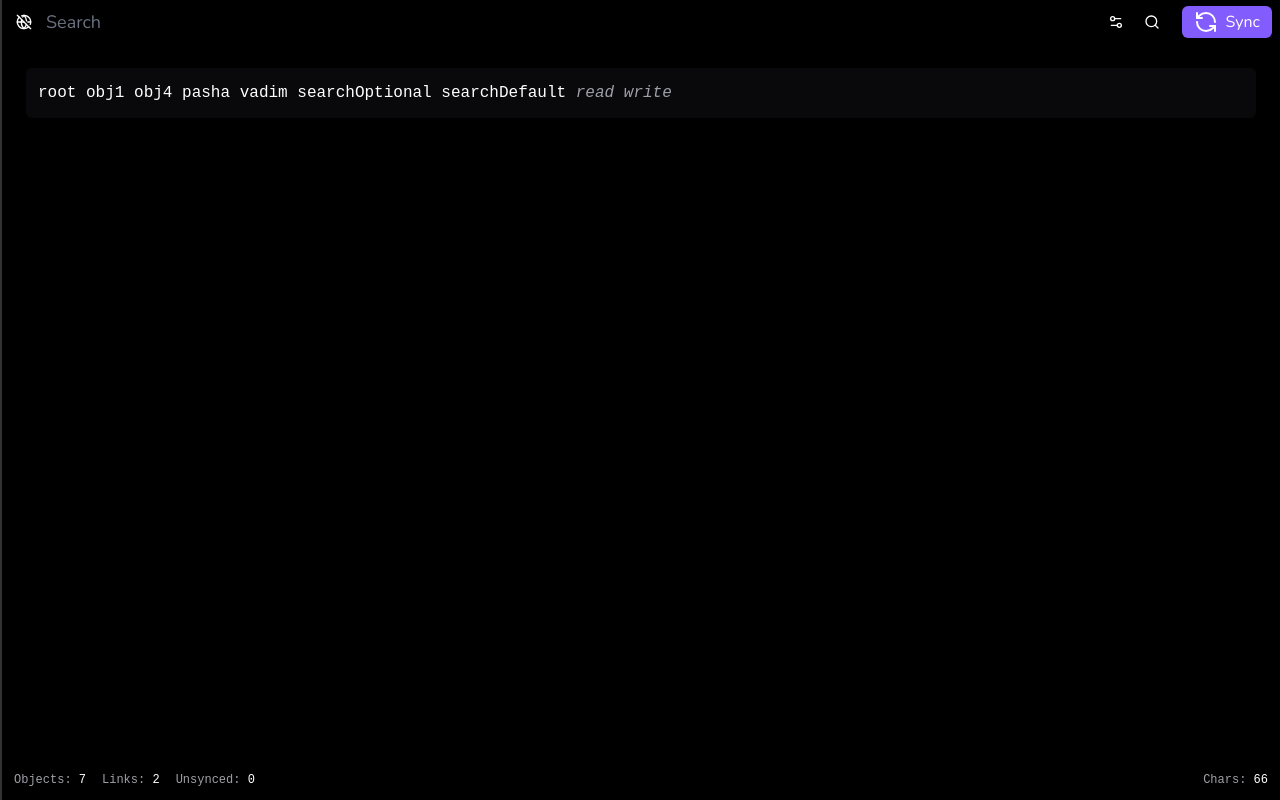
Test: GlobalEditor › очистка запроса выключает filter mode
Type "obj" into the field with placeholder "Search".
click(570, 22); type("obj")  # box x1=46 y1=8 x2=1094 y2=36
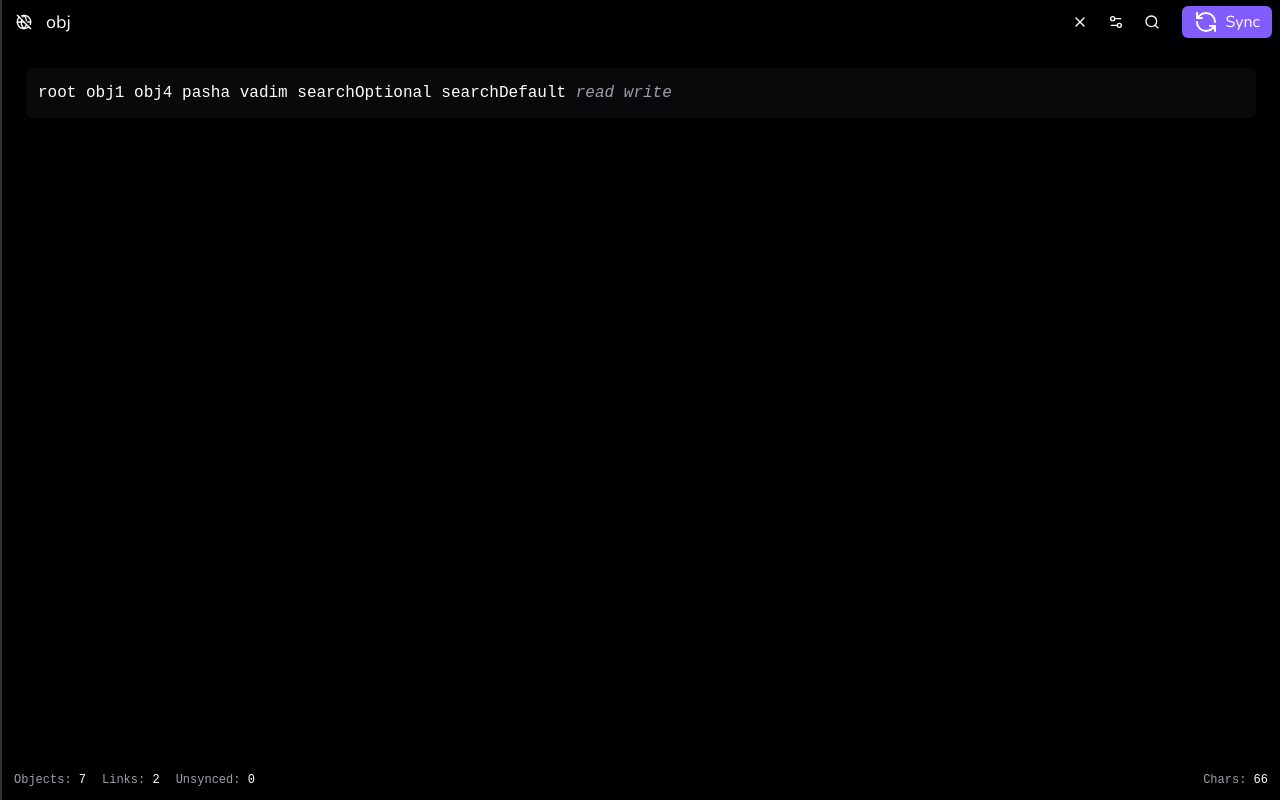
Click the button named "search".
click(1152, 22)  # box x1=1138 y1=8 x2=1166 y2=36
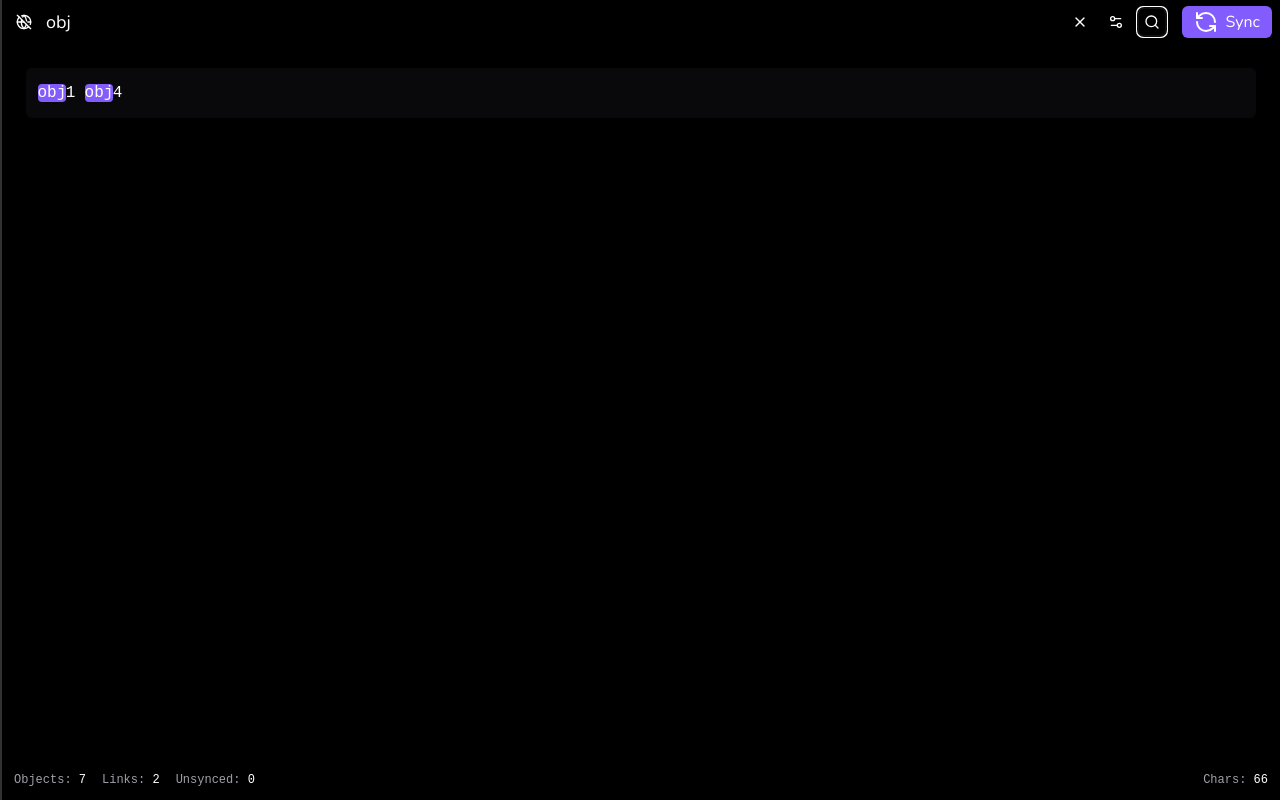
Click the button named "cross".
click(1080, 22)  # box x1=1066 y1=8 x2=1094 y2=36
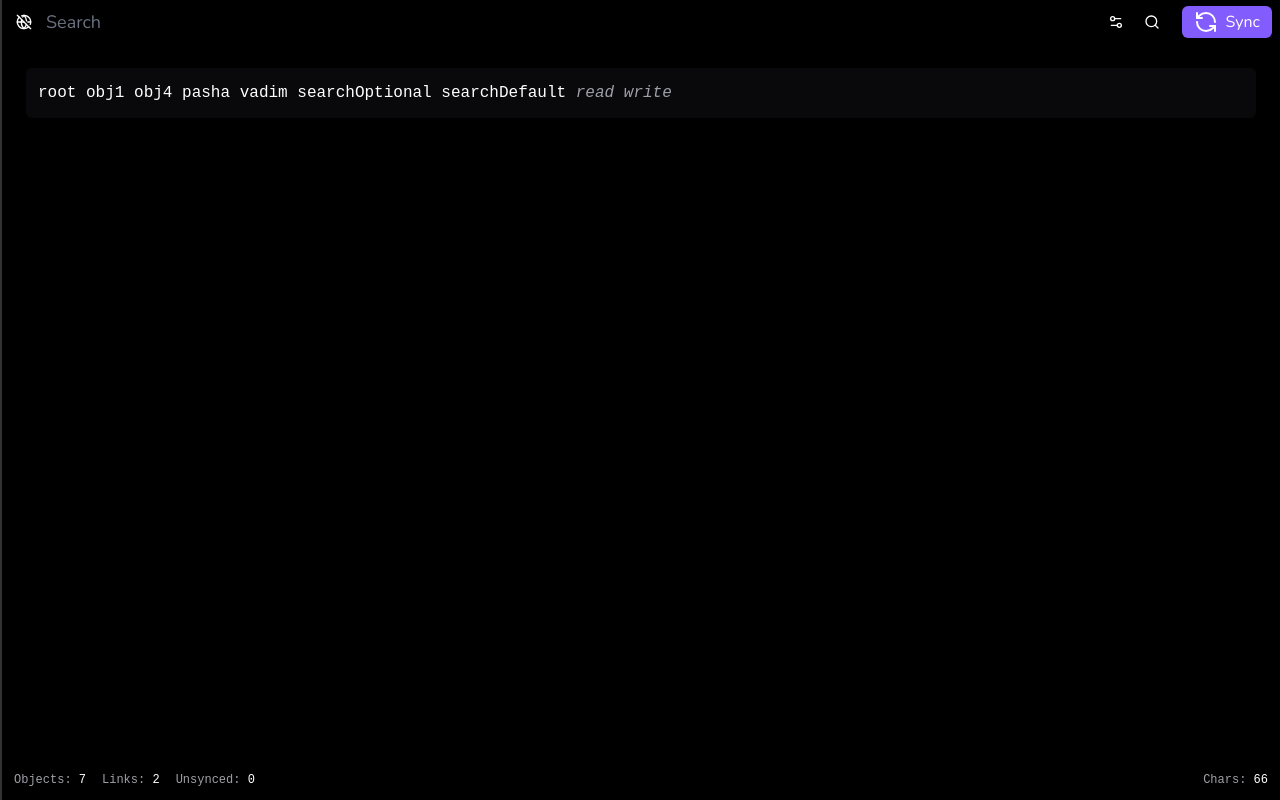
Result: the text "root" is shown at x1=38 y1=84 x2=76 y2=102
